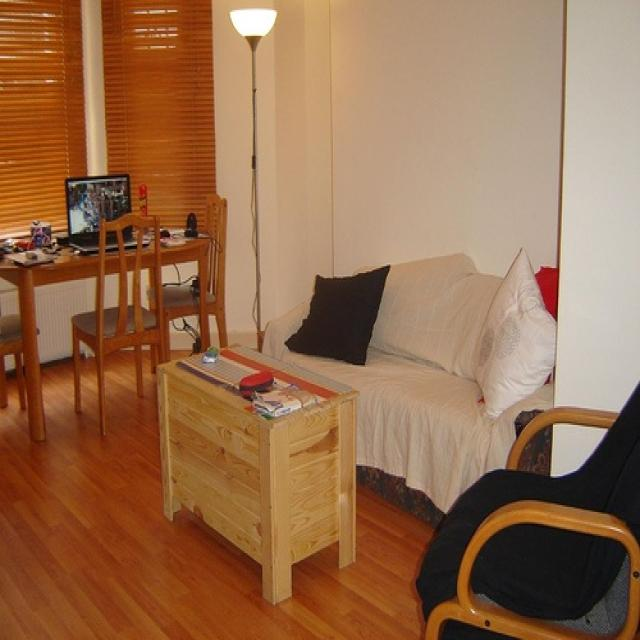chair: (421, 379, 639, 638), (75, 206, 166, 434), (149, 193, 229, 372), (0, 313, 41, 417)
diningtable: (0, 216, 211, 444)
sofa: (258, 256, 556, 524)
